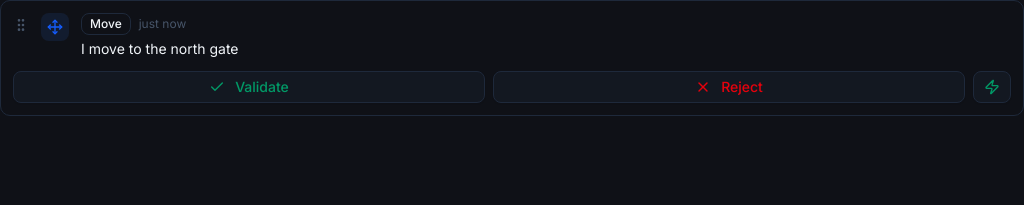
Test case: ActionCard › GM validation controls › shows feedback textarea on Reject click
The image size is (1024, 205).
Click the button "Reject": (729, 87) 493,71 -> 965,103
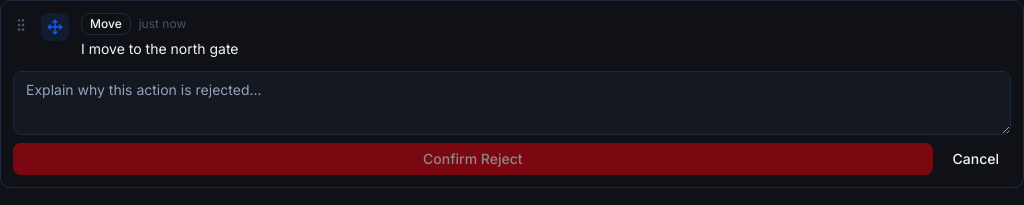
Expected: the text box with placeholder "Explain why this action is rejected..." is shown, 13,71 -> 1011,135
Expected: the button "Confirm Reject" is shown, 13,143 -> 932,175
